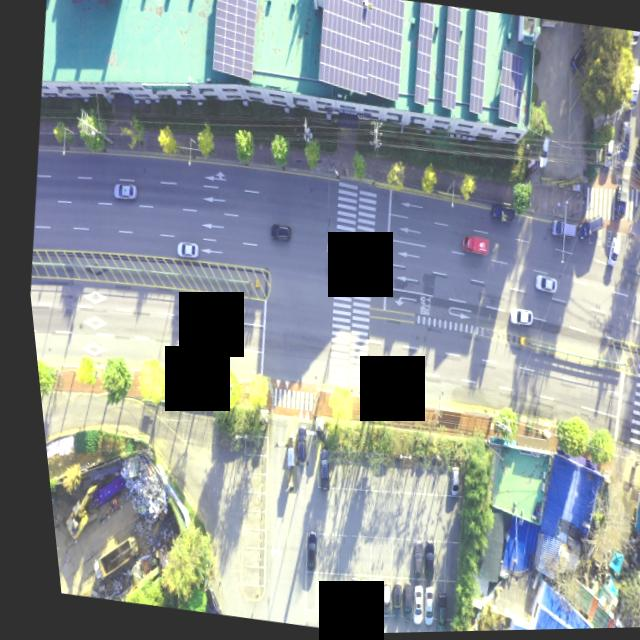car: (304, 451, 325, 493), (408, 541, 427, 586), (566, 44, 590, 79), (571, 215, 601, 243), (612, 123, 631, 166), (290, 534, 309, 574), (331, 577, 349, 619), (386, 584, 404, 625), (282, 427, 301, 464), (408, 589, 426, 628), (323, 260, 352, 284), (343, 582, 361, 620), (420, 594, 437, 634), (375, 583, 392, 623), (598, 239, 619, 271), (396, 587, 413, 626), (354, 581, 371, 619), (397, 542, 414, 580), (365, 582, 381, 617), (532, 136, 548, 171), (110, 181, 136, 202), (501, 309, 527, 330), (547, 223, 572, 243), (528, 275, 551, 296), (265, 224, 289, 244), (438, 468, 453, 499), (171, 242, 195, 261), (599, 141, 614, 171), (630, 140, 640, 175), (637, 55, 640, 94)
small_truck: (606, 178, 627, 226), (622, 67, 640, 113), (483, 206, 512, 229), (457, 238, 485, 260)
